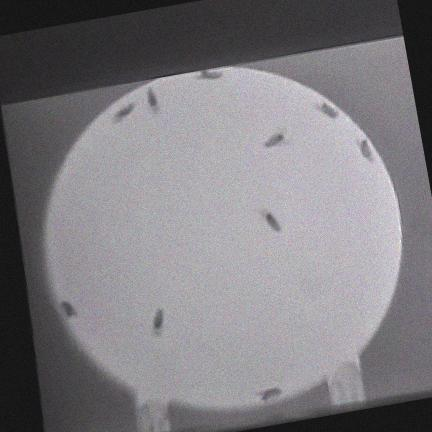fly: (112, 102, 134, 121), (263, 129, 284, 147), (315, 101, 337, 117), (257, 386, 280, 401), (264, 211, 281, 231), (358, 139, 373, 161), (151, 309, 163, 335), (59, 300, 77, 317), (146, 87, 158, 110), (198, 69, 220, 79)
